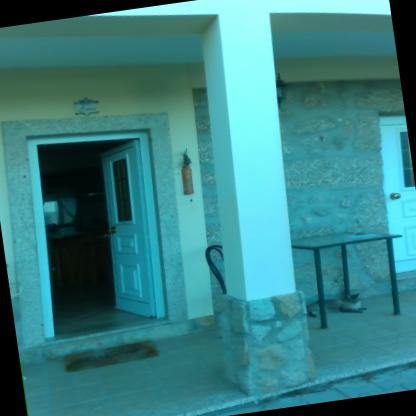open: (13, 110, 184, 354)
